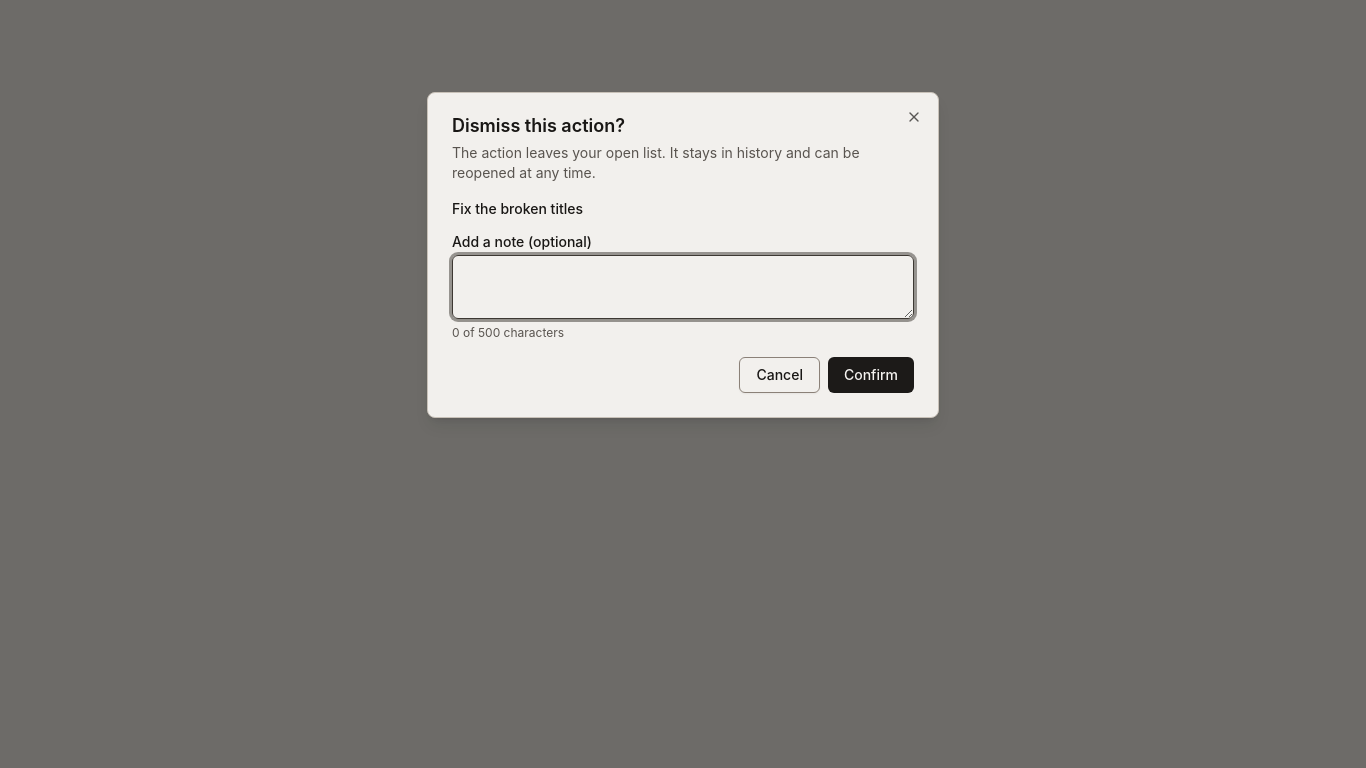
Test: StateChangeDialog › shows a non-conflict server error verbatim
This screenshot has width=1366, height=768.
What coordinates should you click on to do the following:
click the button with test id "action-state-confirm"
I would click on:
 (871, 375)
Its box is [828,357,914,393].
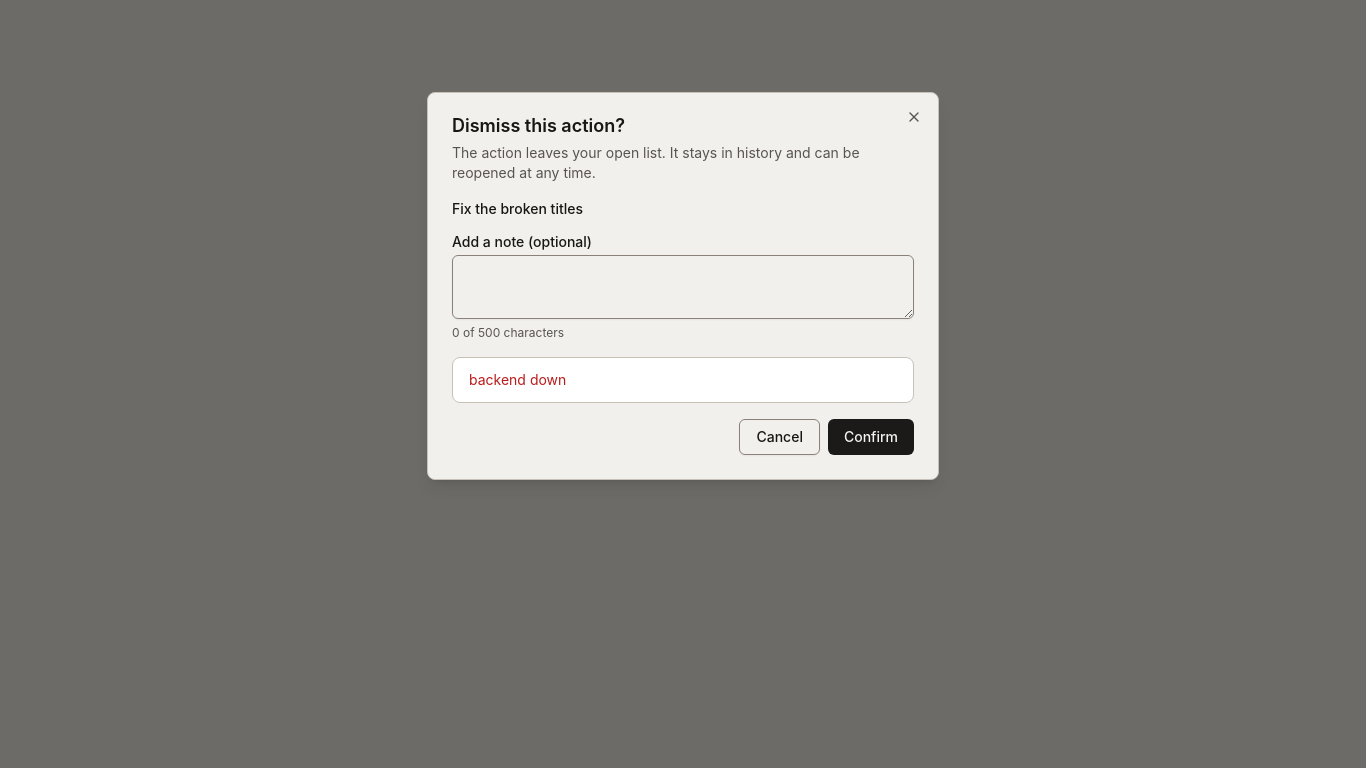
Now the message with test id "action-state-error" reads "backend down", box [469,371,566,388]
